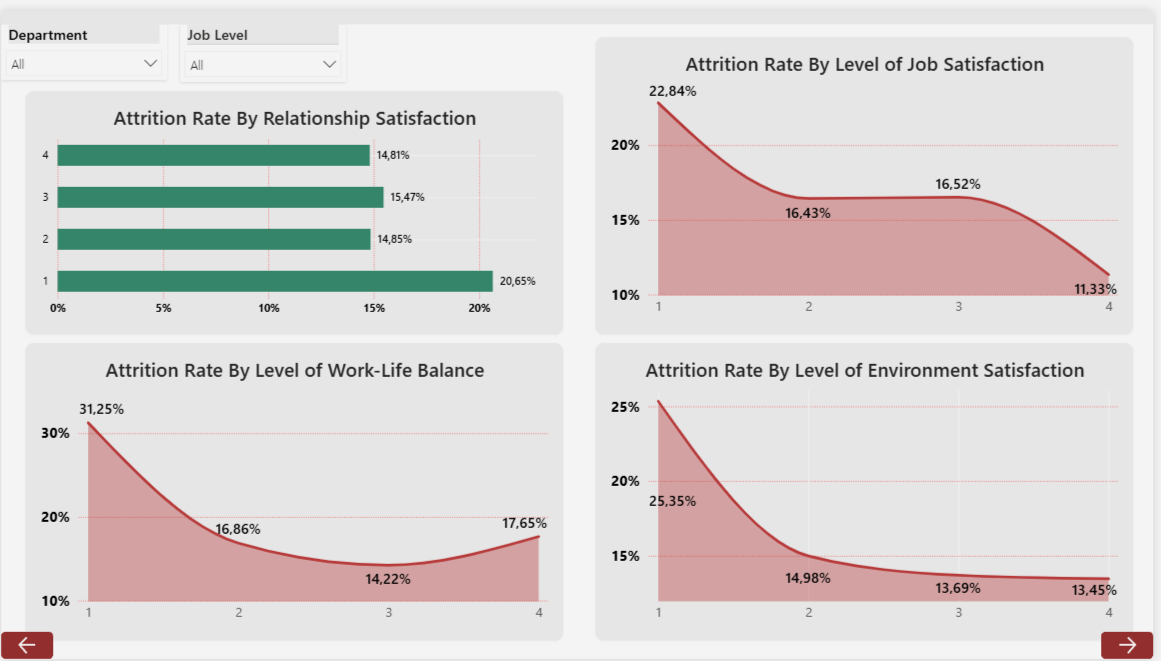

What the dashboard file says about the page in this screenshot:
{"tool":"powerbi","page":{"name":"Satisfaction","canvas":[1280,720],"ordinal":3},"visuals":[{"type":"shape","box":[0,0,1280,15],"z":0},{"type":"stackedAreaChart","title":"Attrition Rate By Level of Environment Satisfaction","fields":{"Category":["HR-Employee-Attrition.EnvironmentSatisfaction"],"Y":["HR-Employee-Attrition.Attrition Rate"]},"box":[660,368.8,597.5,331.2],"z":1000},{"type":"areaChart","title":"Attrition Rate By Level of Job Satisfaction","fields":{"Category":["HR-Employee-Attrition.JobSatisfaction"],"Y":["HR-Employee-Attrition.Attrition Rate"]},"box":[660,28.8,597.5,331.2],"z":2000},{"type":"areaChart","title":"Attrition Rate By Level of Work-Life Balance","fields":{"Category":["HR-Employee-Attrition.WorkLifeBalance"],"Y":["HR-Employee-Attrition.Attrition Rate"]},"box":[26.2,368.8,597.5,331.2],"z":3000},{"type":"clusteredBarChart","title":"Attrition Rate By Relationship Satisfaction","fields":{"Category":["HR-Employee-Attrition.RelationshipSatisfaction"],"Y":["HR-Employee-Attrition.Attrition Rate"]},"box":[26.2,88.8,597.5,271.2],"z":4000},{"type":"slicer","fields":{"Values":["HR-Employee-Attrition.JobLevel"]},"box":[198.8,15,183.8,62.5],"z":5000},{"type":"slicer","fields":{"Values":["HR-Employee-Attrition.Department"]},"box":[0,15,183.8,61.2],"z":6000},{"type":"actionButton","box":[0,690,57.8,30],"z":7000},{"type":"actionButton","box":[1222.2,690,57.8,30],"z":7001}]}

Visuals, with their boxes in screenshot pixels (x1, y1, x2, y2), scaled from the page's 1280x720 canvas onto the 1161x661 screenshot:
shape: 0 0 1160 14
"Attrition Rate By Level of Environment Satisfaction" stackedAreaChart: 599 339 1141 643
"Attrition Rate By Level of Job Satisfaction" areaChart: 599 26 1141 330
"Attrition Rate By Level of Work-Life Balance" areaChart: 24 339 566 643
"Attrition Rate By Relationship Satisfaction" clusteredBarChart: 24 82 566 330
slicer - HR-Employee-Attrition.JobLevel: 180 14 347 71
slicer - HR-Employee-Attrition.Department: 0 14 167 70
actionButton: 0 633 52 660
actionButton: 1109 633 1160 660
